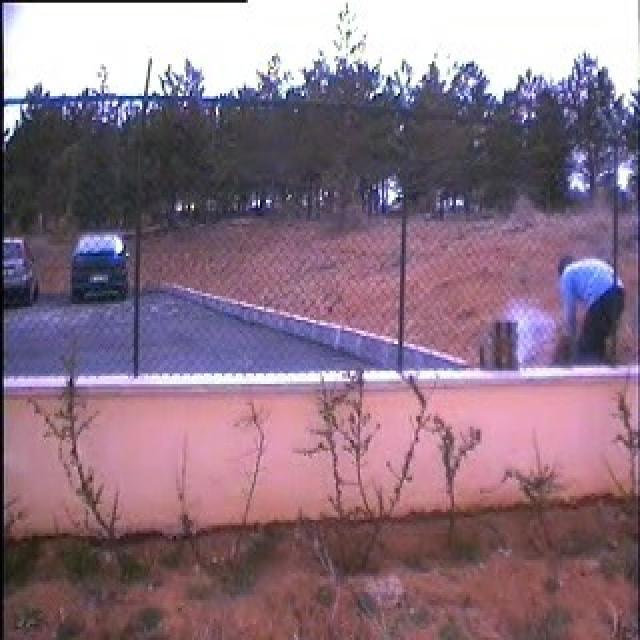Smoke: (506, 302, 555, 366)
